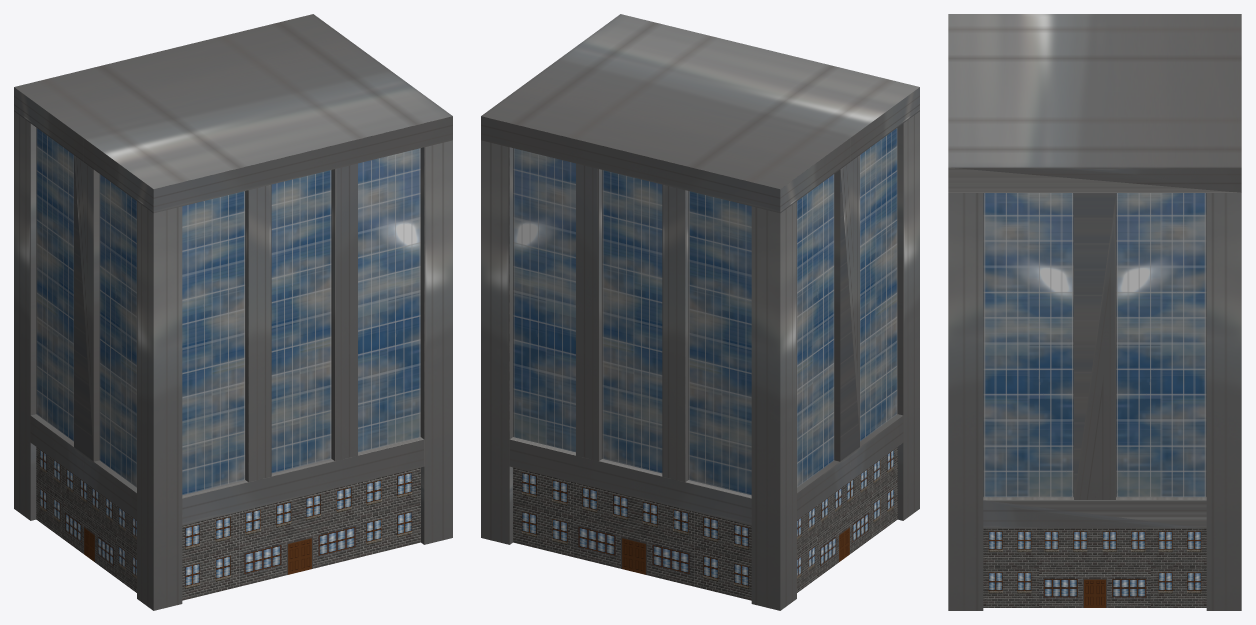
The model's file is Building - 1.FBX.
3 views of the same model, side by side, from view 1: azimuth 30°, elevation 25°; view 2: azimuth 150°, elevation 25°; view 3: azimuth 270°, elevation 25° (orthographic). The views are drawn at different scales.
Parts seen in each view (by area): view 1: Box01; view 2: Box01; view 3: Box01.
Part boxes in pixels (left/top/right/bottom): Box01: left=14, top=14, right=452, bottom=610; Box01: left=481, top=14, right=919, bottom=610; Box01: left=948, top=14, right=1241, bottom=610.
Bounding box in the file's own units: 26 × 21 × 35.
Materials: 1 (1 with a texture image).
